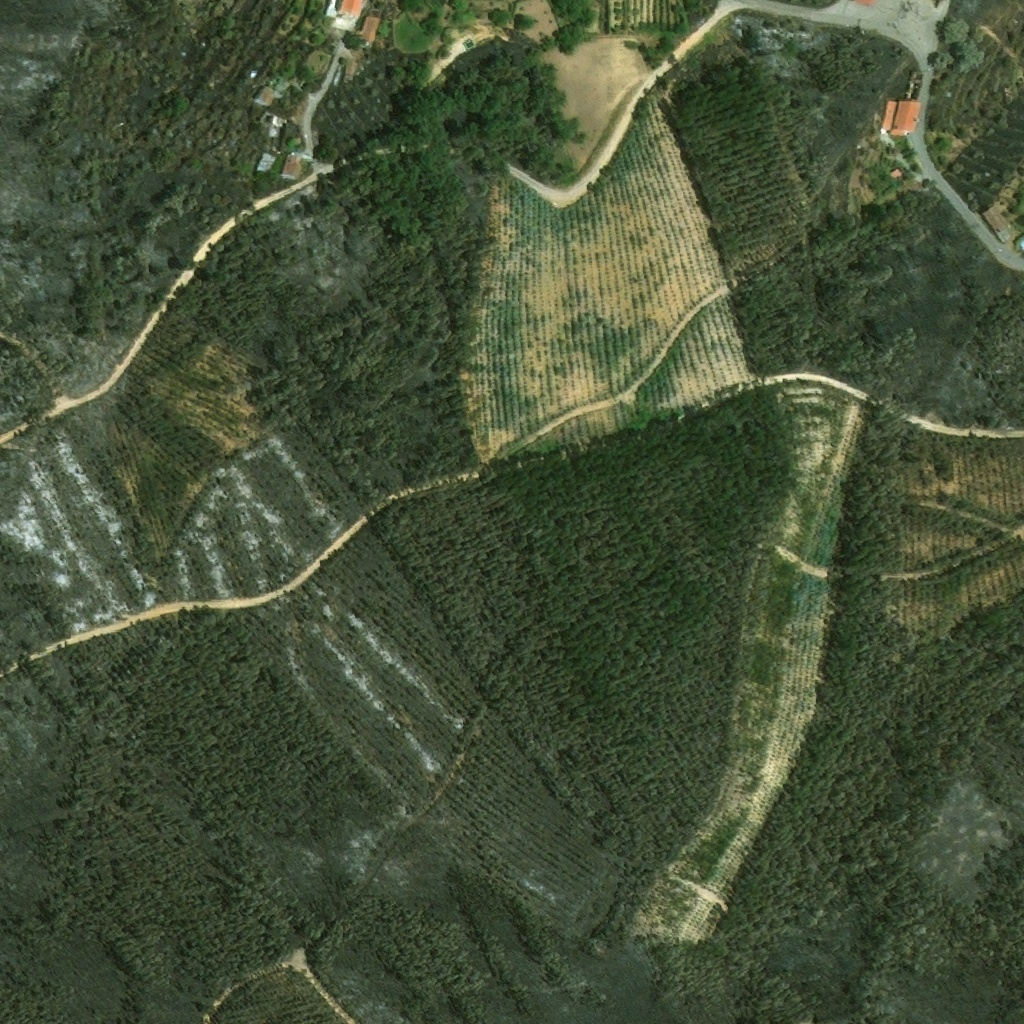0 no-damage: (878, 100, 919, 137), (353, 14, 378, 51), (976, 206, 1006, 236), (278, 152, 302, 180), (252, 86, 276, 108), (335, 0, 363, 18), (252, 153, 276, 173), (993, 230, 1010, 246)
2 major-damage: (259, 111, 285, 130)
4 un-classified: (1010, 236, 1023, 255), (850, 0, 875, 7)
